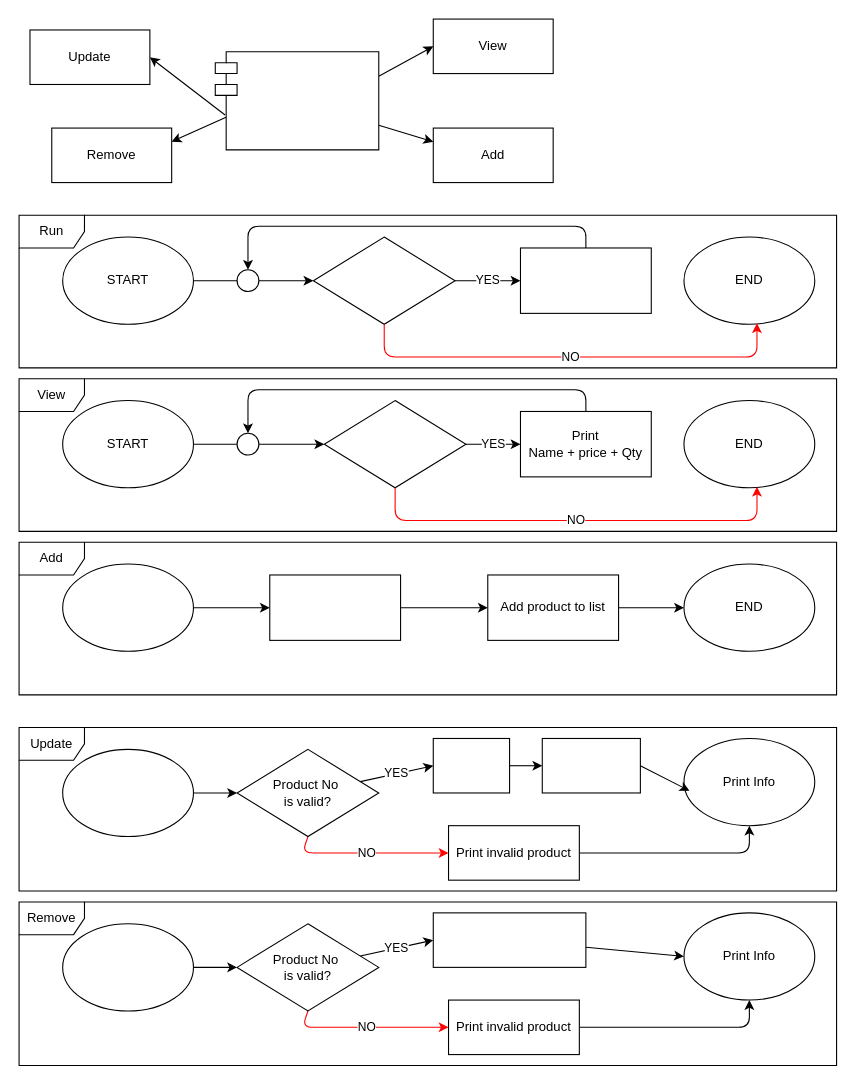
This 856x1085 diagram has some shape labels left out. The centre of each missing label's shape, as x and y in pixels:
"Ask enter: Name, Price, Qty" belongs at [127,607].
"Create new product" belongs at [335,607].
"Execute Command" belongs at [585,280].
"Get Command not Exit" belongs at [383,280].
"Get Product No to remove" belongs at [127,967].
"Get Product No to update" belongs at [127,792].
"Get Qty" belongs at [471,765].
"Inventory (with Run)" belongs at [296,100].
"Next Product?" belongs at [394,443].
"Remove product" belongs at [509,939].
"Update Qty" belongs at [590,765].
